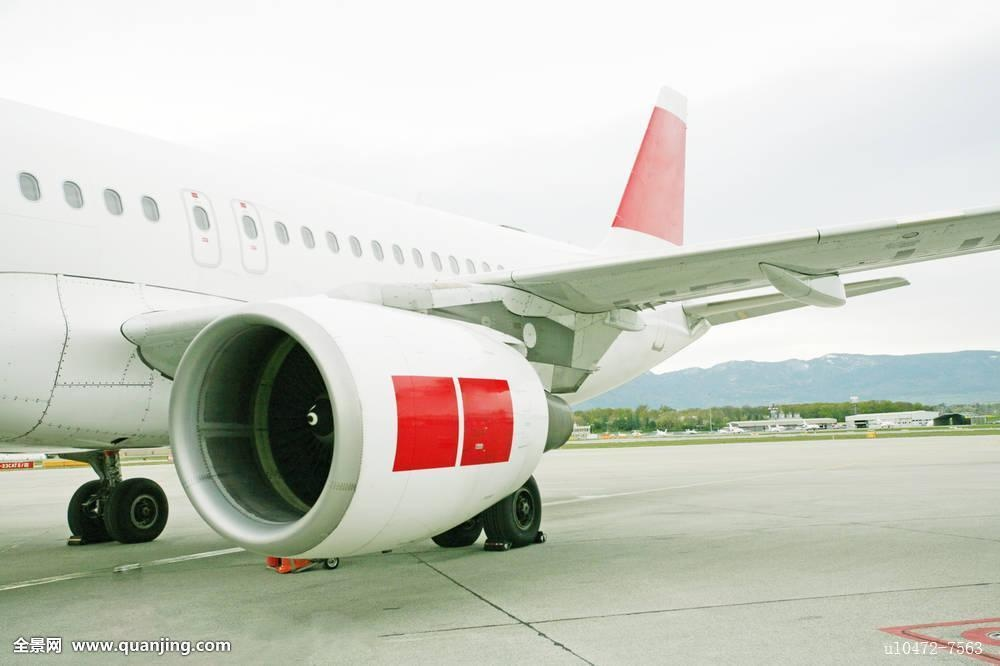airplane: (1, 76, 1000, 563)
